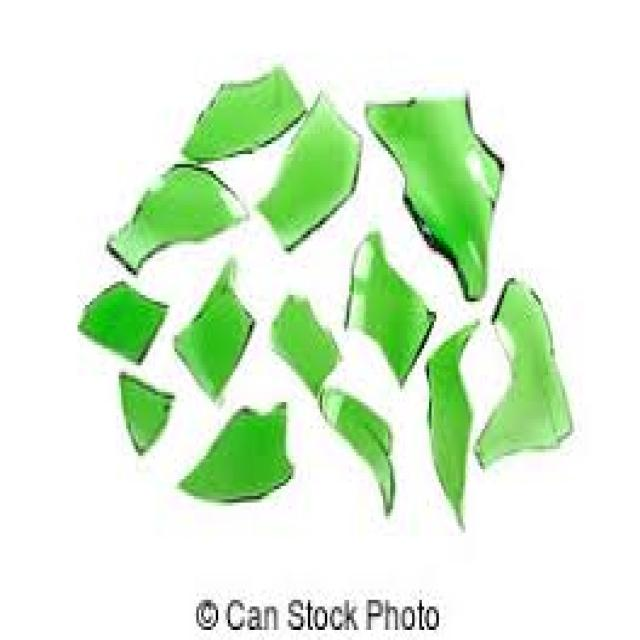glass: (364, 91, 502, 298), (470, 275, 572, 469), (255, 91, 361, 245), (104, 161, 245, 271), (342, 228, 434, 382), (172, 399, 289, 499), (424, 318, 480, 526), (177, 64, 303, 154), (170, 258, 252, 392), (315, 389, 393, 513), (75, 278, 165, 362), (269, 292, 339, 392), (117, 372, 168, 452)
